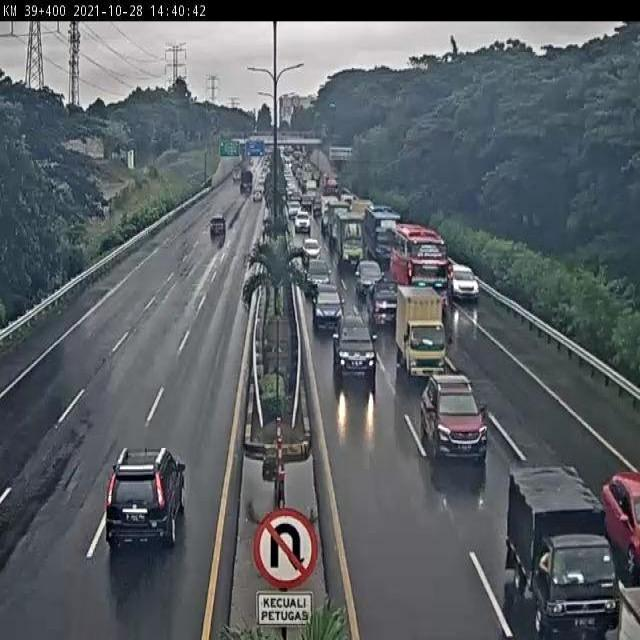bus-l-: (394, 224, 452, 307), (366, 203, 400, 257)
car: (103, 448, 185, 548), (422, 374, 489, 462), (331, 304, 374, 373), (368, 280, 403, 325), (312, 285, 343, 328), (448, 263, 480, 304), (354, 257, 385, 295), (306, 257, 334, 295), (208, 217, 225, 235)
truck-s-: (508, 464, 618, 635), (395, 285, 448, 379)
